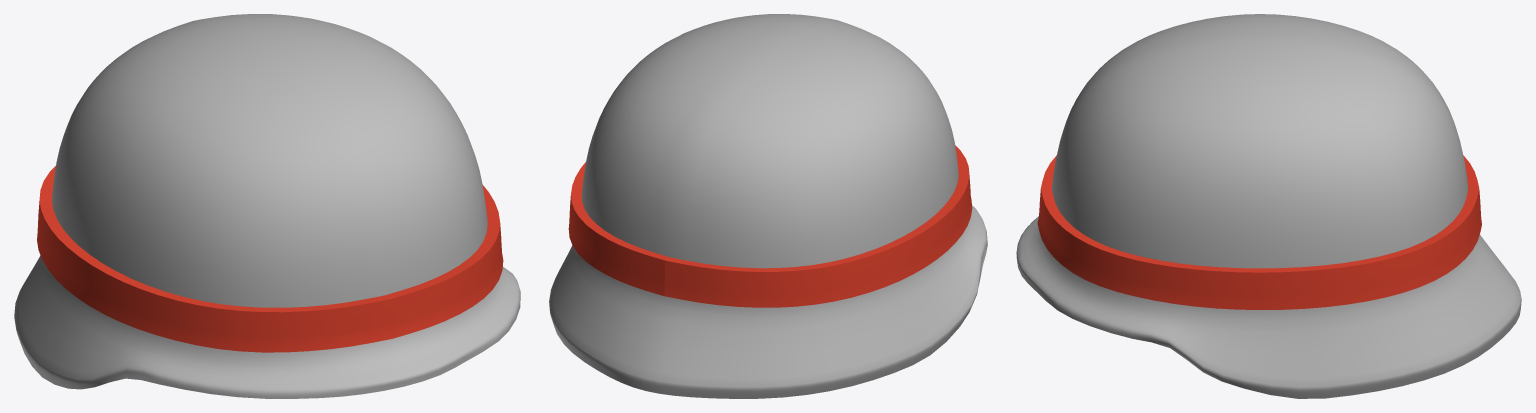
The model's file is Accessory-Helmet-Soldier 02.fbx.
The picture shows the model from 3 angles, left to right: view 1: azimuth 30°, elevation 25°; view 2: azimuth 150°, elevation 25°; view 3: azimuth 270°, elevation 25°; orthographic projection. The views are drawn at different scales.
Visible parts, largest first — view 1: Helmet; view 2: Helmet; view 3: Helmet.
Part boxes in pixels (<box>): Helmet: <box>14,14,520,398</box>; Helmet: <box>549,14,987,398</box>; Helmet: <box>1016,14,1521,398</box>.
Size of the model in its own units: 31.5 by 21 by 35.7.
